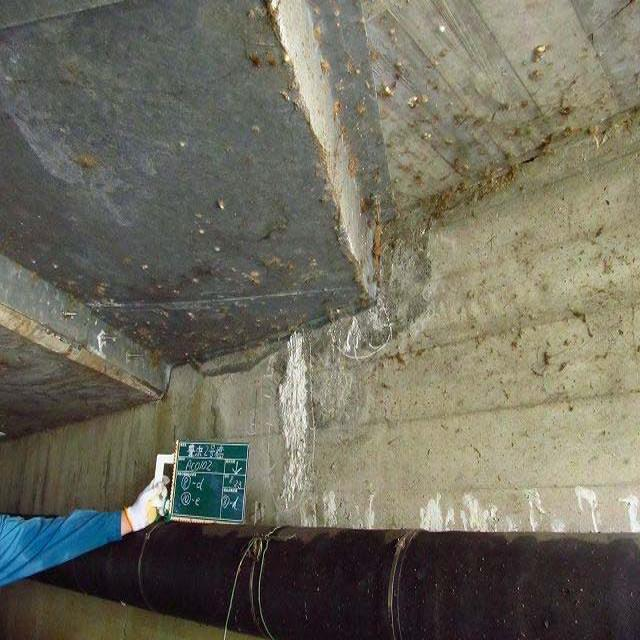freelime: (422, 483, 637, 554), (267, 302, 316, 524)
